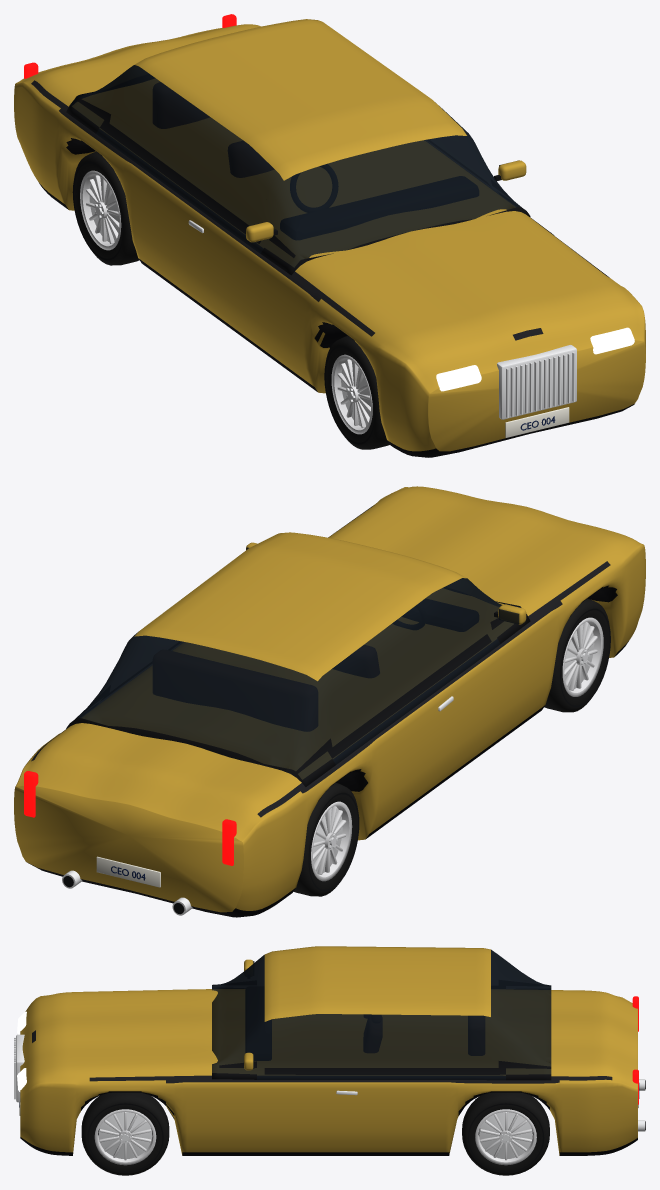
Rendered from dorado_royale.glb.
3 views of the same model, one above another, from view 1: azimuth 30°, elevation 25°; view 2: azimuth 150°, elevation 25°; view 3: azimuth 270°, elevation 25° (orthographic). The views are drawn at different scales.
Parts seen in each view (by area): view 1: body, wheel_RL, wheel_FL; view 2: body, wheel_FL, wheel_RL; view 3: body, wheel_FR, wheel_RR.
Boxes of the visible parts, box(x1,y1,x2,y2) form: body: box(14, 14, 645, 457); wheel_RL: box(72, 151, 139, 265); wheel_FL: box(324, 336, 389, 449); body: box(14, 486, 645, 917); wheel_FL: box(544, 598, 610, 712); wheel_RL: box(293, 783, 359, 896); body: box(14, 946, 645, 1155); wheel_FR: box(81, 1092, 169, 1175); wheel_RR: box(462, 1092, 549, 1175).
Bounding box in the file's own units: 2.26 × 1.65 × 5.9.
